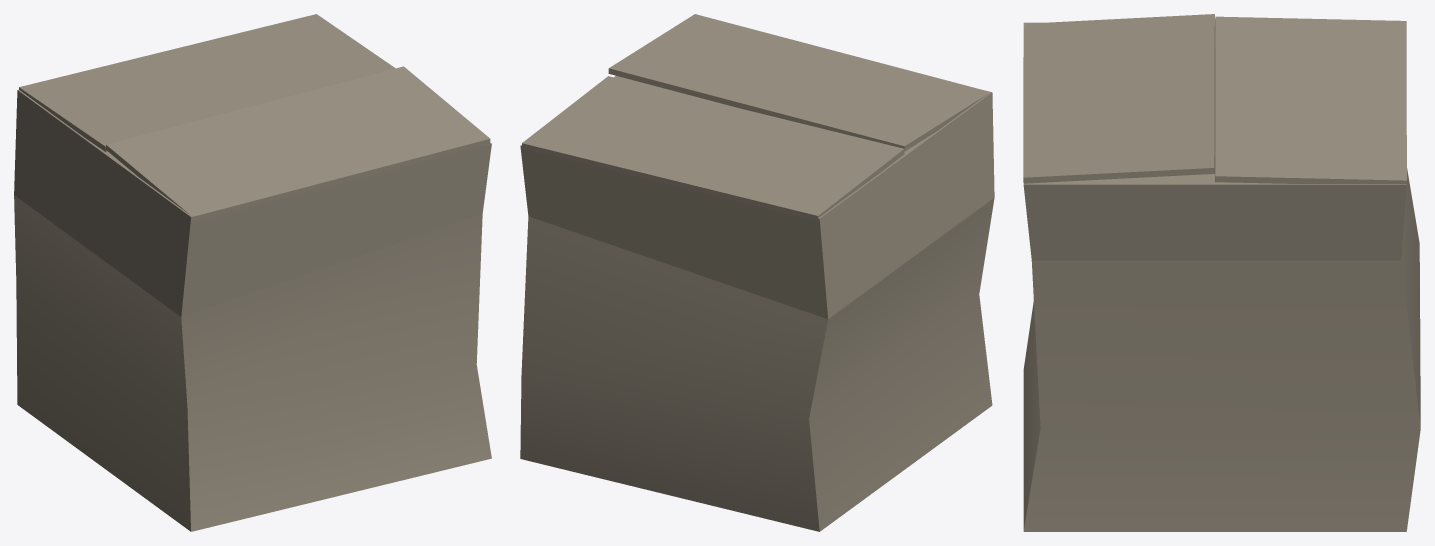
3 views of the same model, side by side, from view 1: azimuth 30°, elevation 25°; view 2: azimuth 150°, elevation 25°; view 3: azimuth 270°, elevation 25° (orthographic). The views are drawn at different scales.
Visible parts, largest first — view 1: box; view 2: box; view 3: box.
Part boxes in pixels (x1,y1,x2,y2): box: (14, 14, 491, 531); box: (520, 14, 994, 531); box: (1023, 14, 1420, 531).
Size of the model in its own units: 147 by 151 by 149.
